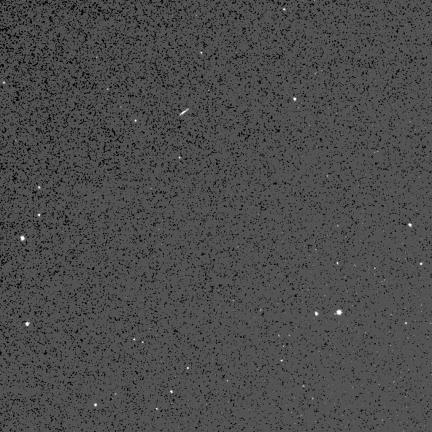blob: (336, 310, 342, 315), (26, 322, 30, 327), (21, 236, 25, 241), (408, 223, 412, 227), (94, 403, 98, 407), (293, 98, 297, 102), (171, 390, 174, 395), (420, 263, 424, 266), (315, 311, 318, 315), (38, 214, 41, 217), (135, 120, 138, 123)
